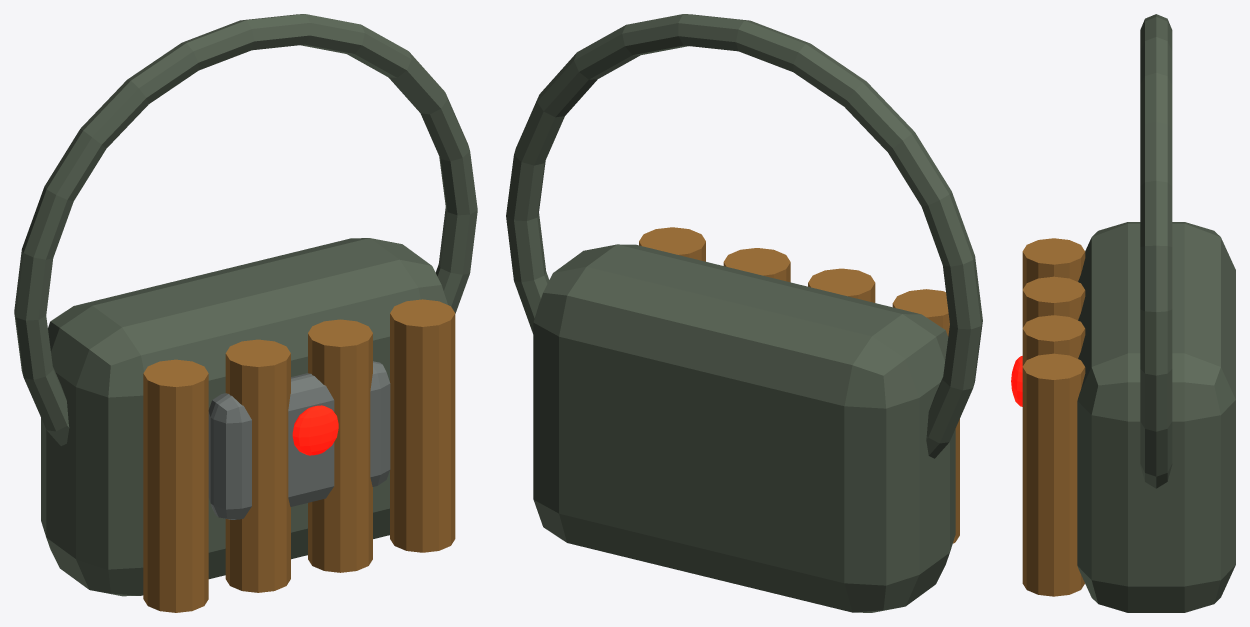
Rendered from satchel-charge.glb.
The picture shows the model from 3 angles, left to right: view 1: azimuth 30°, elevation 25°; view 2: azimuth 150°, elevation 25°; view 3: azimuth 270°, elevation 25°; orthographic projection. The views are drawn at different scales.
Parts seen in each view (by area): view 1: Satchel body, Carry strap, Charge stick 1, Charge stick 4, Charge stick 2, Charge stick 3, Detonator plate, indicator; view 2: Satchel body, Carry strap, Charge stick 1, Charge stick 2, Charge stick 3, Charge stick 4; view 3: Satchel body, Carry strap, Charge stick 4, Charge stick 3, Charge stick 1, Charge stick 2, indicator.
Boxes of the visible parts, x1=… form: Satchel body: x1=41, y1=238, x2=448, y2=596; Carry strap: x1=14, y1=14, x2=477, y2=445; Charge stick 1: x1=143, y1=359, x2=208, y2=612; Charge stick 4: x1=390, y1=299, x2=455, y2=552; Charge stick 2: x1=225, y1=339, x2=290, y2=592; Charge stick 3: x1=308, y1=319, x2=372, y2=572; Detonator plate: x1=208, y1=361, x2=390, y2=519; indicator: x1=292, y1=405, x2=338, y2=455; Satchel body: x1=533, y1=244, x2=955, y2=612; Carry strap: x1=506, y1=14, x2=982, y2=458; Charge stick 1: x1=892, y1=289, x2=959, y2=543; Charge stick 2: x1=808, y1=268, x2=875, y2=302; Charge stick 3: x1=723, y1=248, x2=790, y2=282; Charge stick 4: x1=639, y1=227, x2=705, y2=261; Satchel body: x1=1077, y1=222, x2=1235, y2=612; Carry strap: x1=1140, y1=14, x2=1172, y2=488; Charge stick 4: x1=1022, y1=353, x2=1085, y2=596; Charge stick 3: x1=1022, y1=315, x2=1085, y2=365; Charge stick 1: x1=1022, y1=238, x2=1085, y2=289; Charge stick 2: x1=1022, y1=276, x2=1085, y2=327; indicator: x1=1011, y1=356, x2=1022, y2=406.
Size of the model in its own units: 0.896 by 0.988 by 0.3953.
